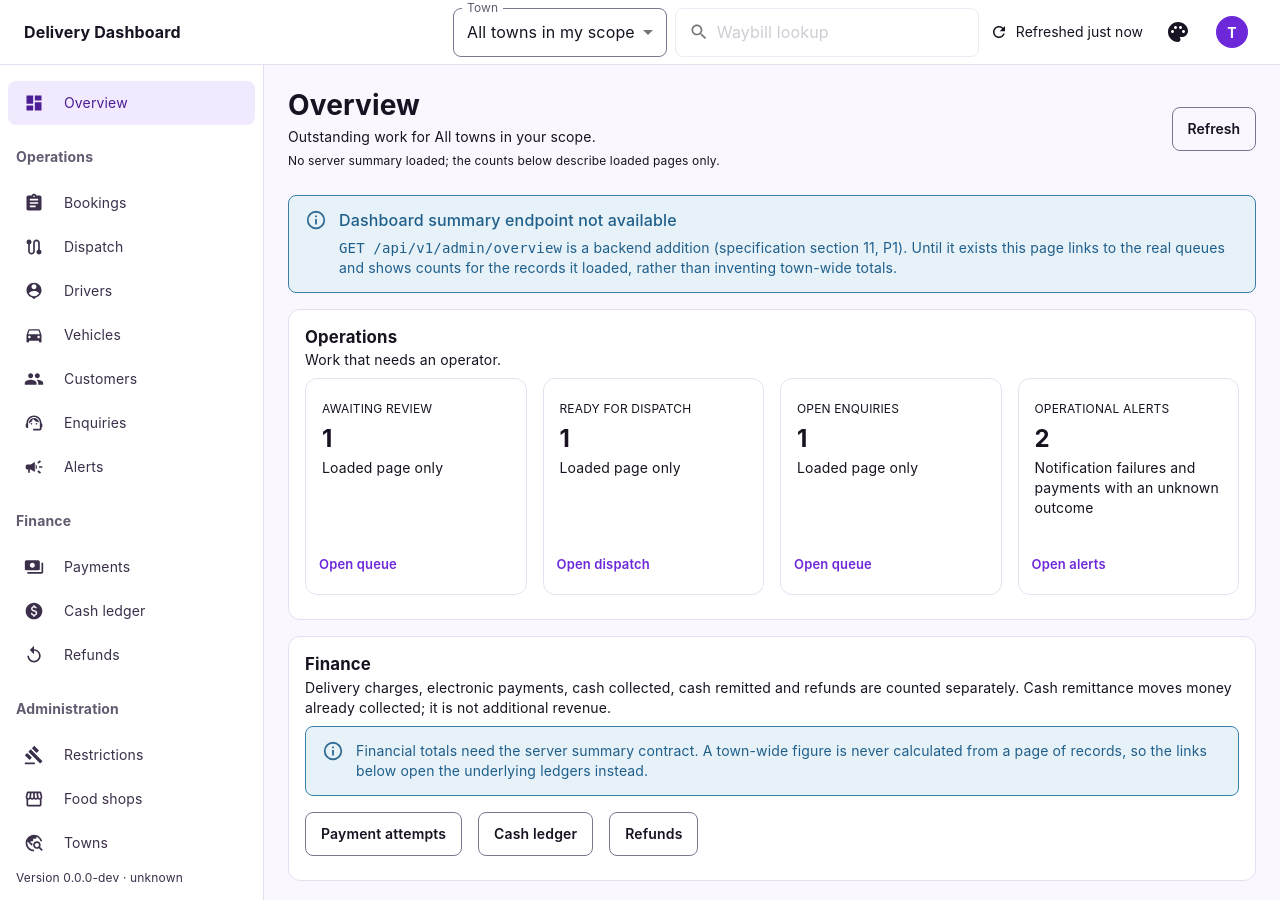
staff session lifecycle › says so when the server cannot confirm the sign-out
The width and height of the screenshot is (1280, 900).
Expected: the heading "Overview" is shown, x1=288 y1=88 x2=420 y2=122
Step 1. Click the button named "Account menu" → (1232, 32), box x1=1208 y1=8 x2=1256 y2=56
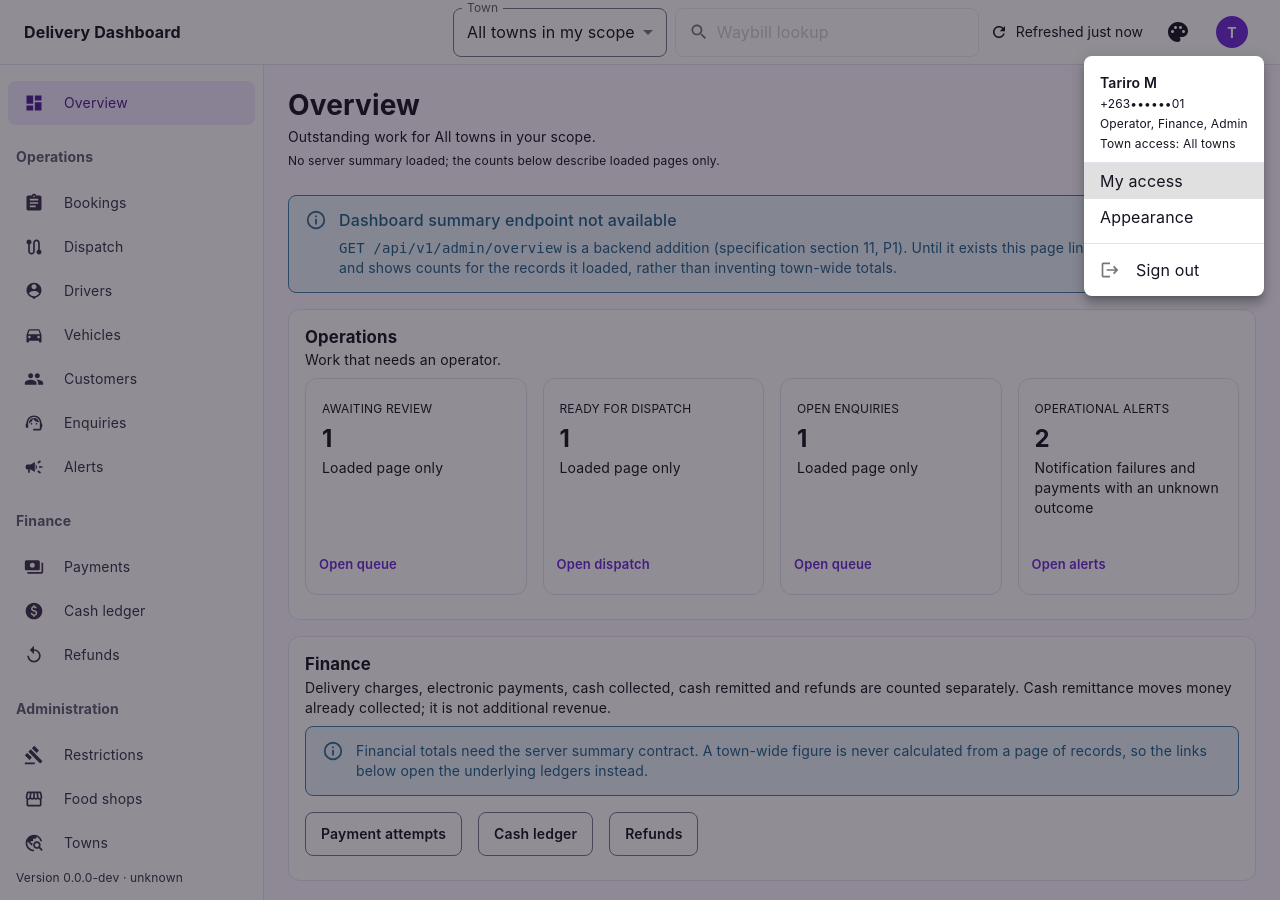
Step 2. Click the menu item "Sign out" → (1150, 270), box x1=1100 y1=260 x2=1199 y2=280
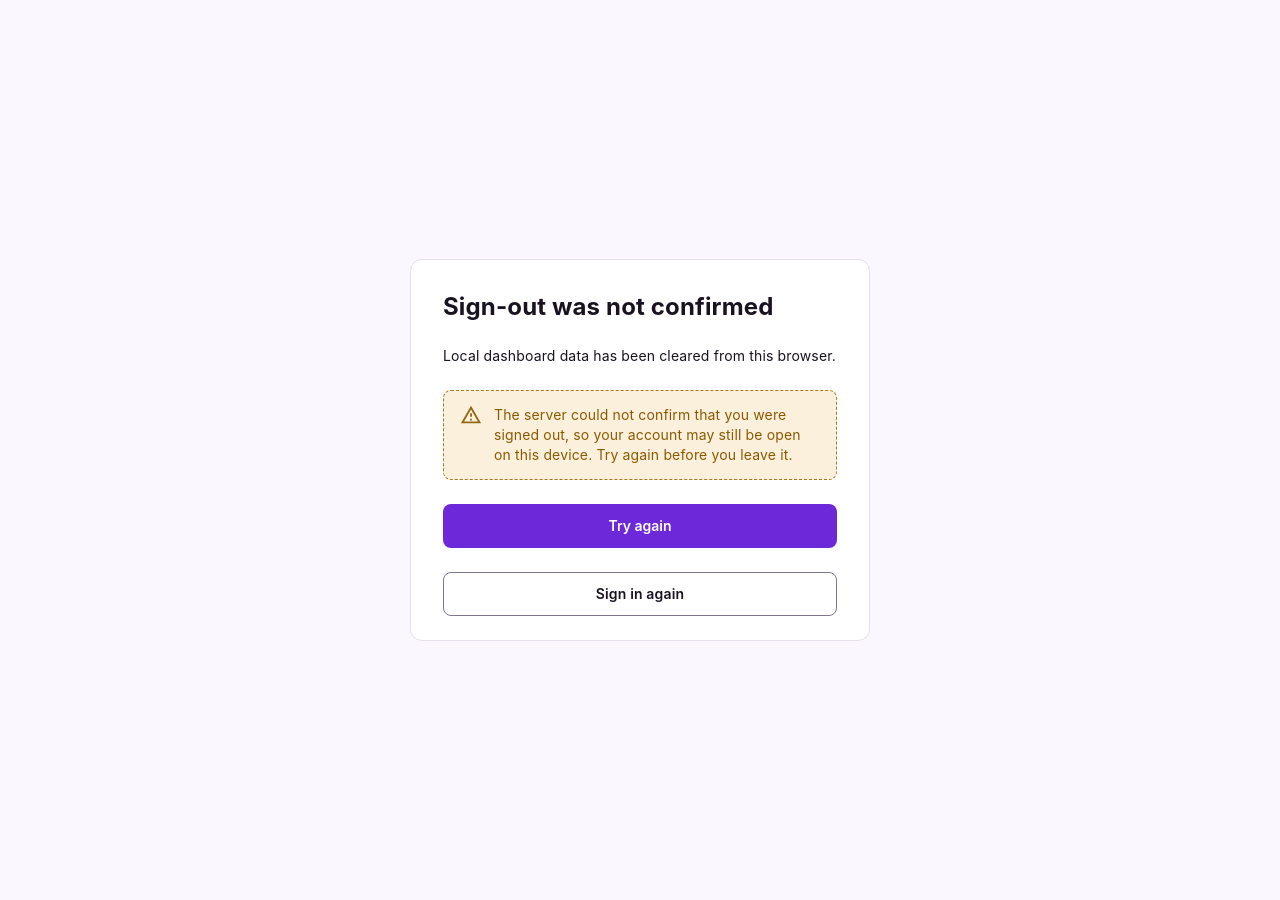
Expected: the heading "Sign-out was not confirmed" is shown, x1=443 y1=292 x2=773 y2=321
Expected: the text "may still be open on this device" is shown, x1=494 y1=406 x2=801 y2=463
